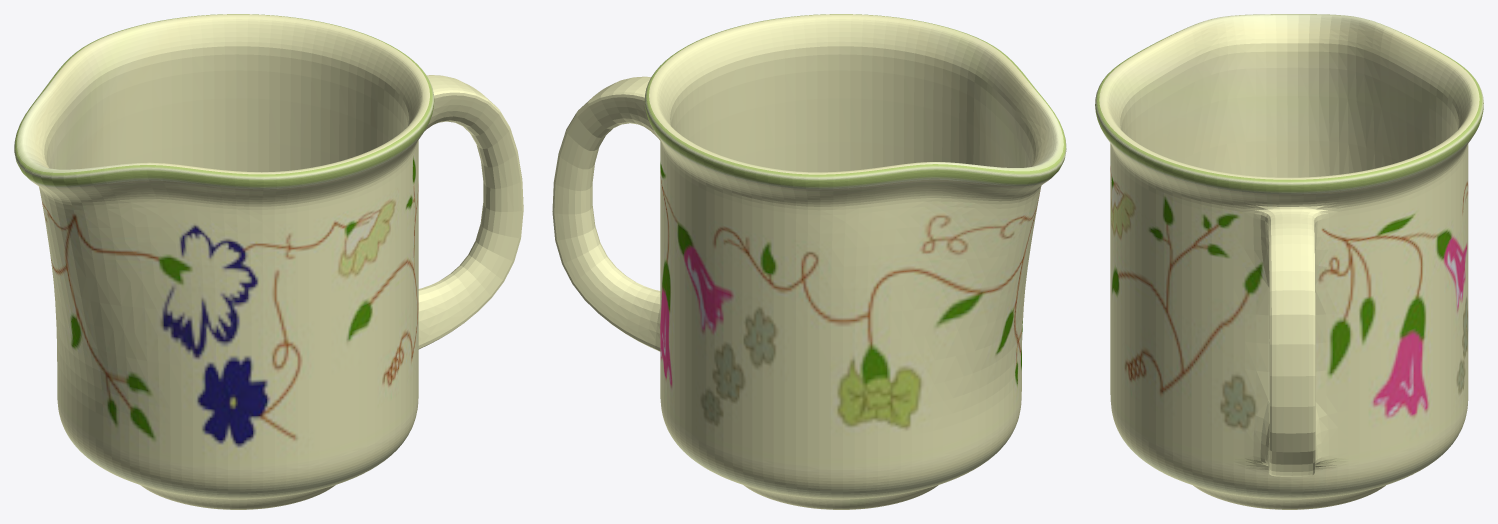
The model's file is sweethome3d-scopia-creamer-110.glb.
3 views of the same model, side by side, from view 1: azimuth 30°, elevation 25°; view 2: azimuth 150°, elevation 25°; view 3: azimuth 270°, elevation 25° (orthographic).
Visible parts, largest first — view 1: creamer_Plane.004; view 2: creamer_Plane.004; view 3: creamer_Plane.004.
Boxes of the visible parts, x1=… form: creamer_Plane.004: x1=14, y1=14, x2=523, y2=509; creamer_Plane.004: x1=552, y1=14, x2=1066, y2=509; creamer_Plane.004: x1=1095, y1=14, x2=1483, y2=509.
Bounding box in the file's own units: 12.18 × 8.89 × 8.41.
Materials: 1 (1 with a texture image).
